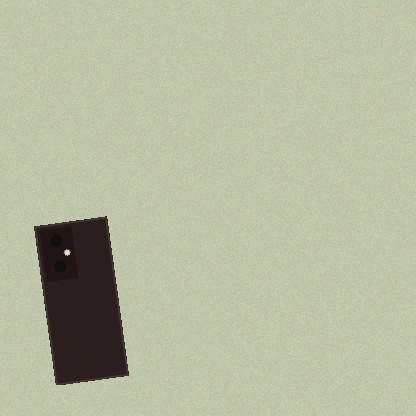cell_phone: (34, 216, 129, 385)
